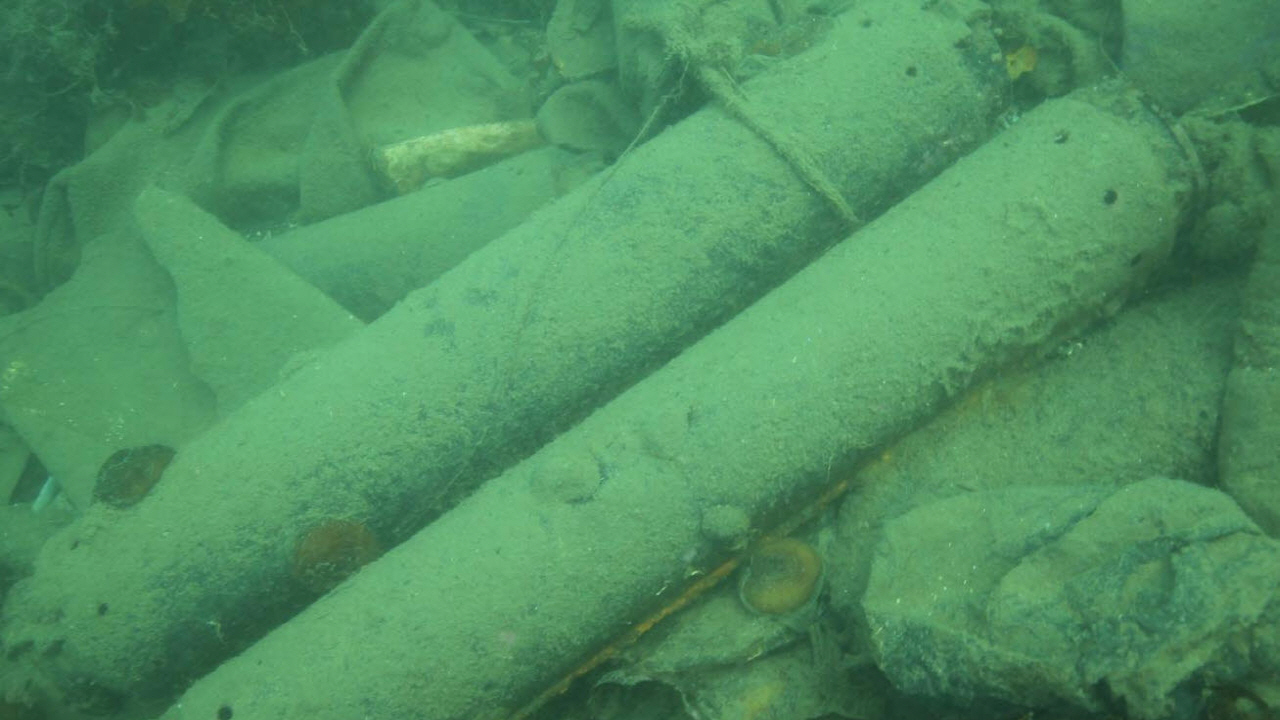eel fish trap: (0, 6, 1013, 720), (159, 78, 1207, 719)
rope: (688, 57, 869, 236)
